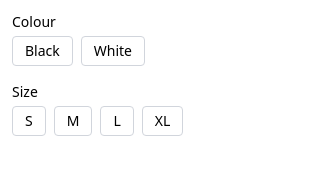
Test: VariantPicker › an out-of-stock combination is disabled
The width and height of the screenshot is (332, 172).
Click the button "Black" at [42, 51], box [12,36,73,66]
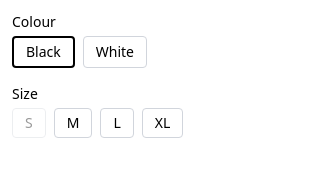
Expected: the button "S" is disabled, [12,108,46,138]
